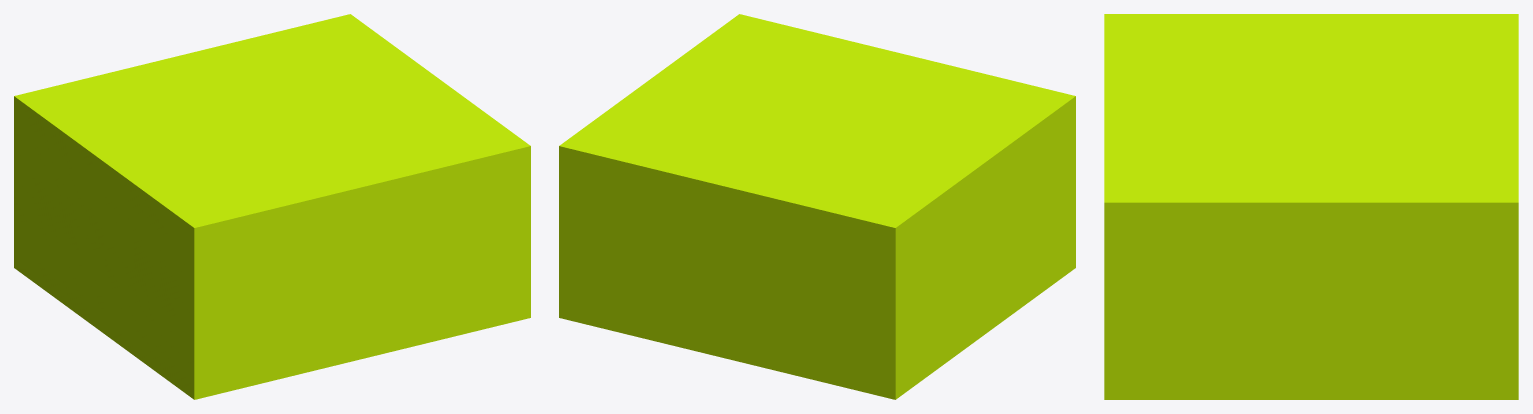
The model's file is test_box_2_bld.glb.
3 renders of one model, left to right at view 1: azimuth 30°, elevation 25°; view 2: azimuth 150°, elevation 25°; view 3: azimuth 270°, elevation 25°, orthographic. The views are drawn at different scales.
Visible parts, largest first — view 1: Box001; view 2: Box001; view 3: Box001.
Part boxes in pixels (x1,y1,x2,y2): Box001: (14, 14, 530, 399); Box001: (559, 14, 1075, 399); Box001: (1104, 14, 1518, 399).
Bounding box in the file's own units: 0.4497 × 0.2195 × 0.4176.
